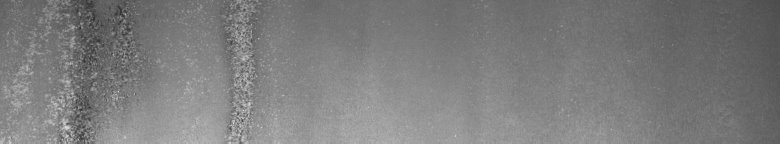hc: (64, 5, 132, 136)
